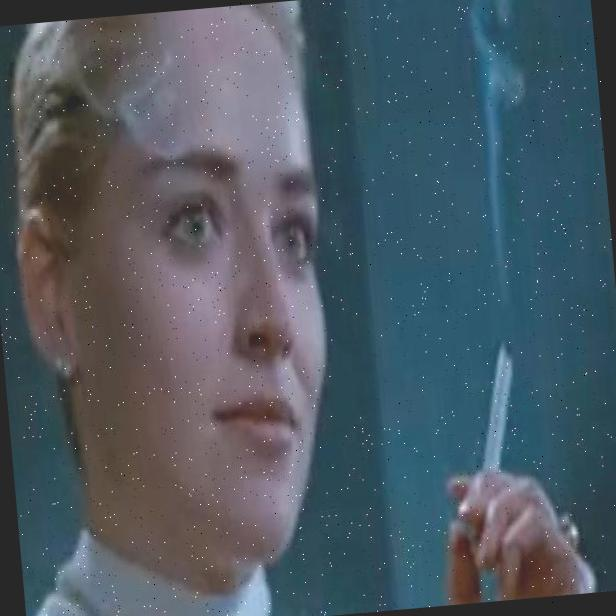smoke: (451, 0, 539, 310)
